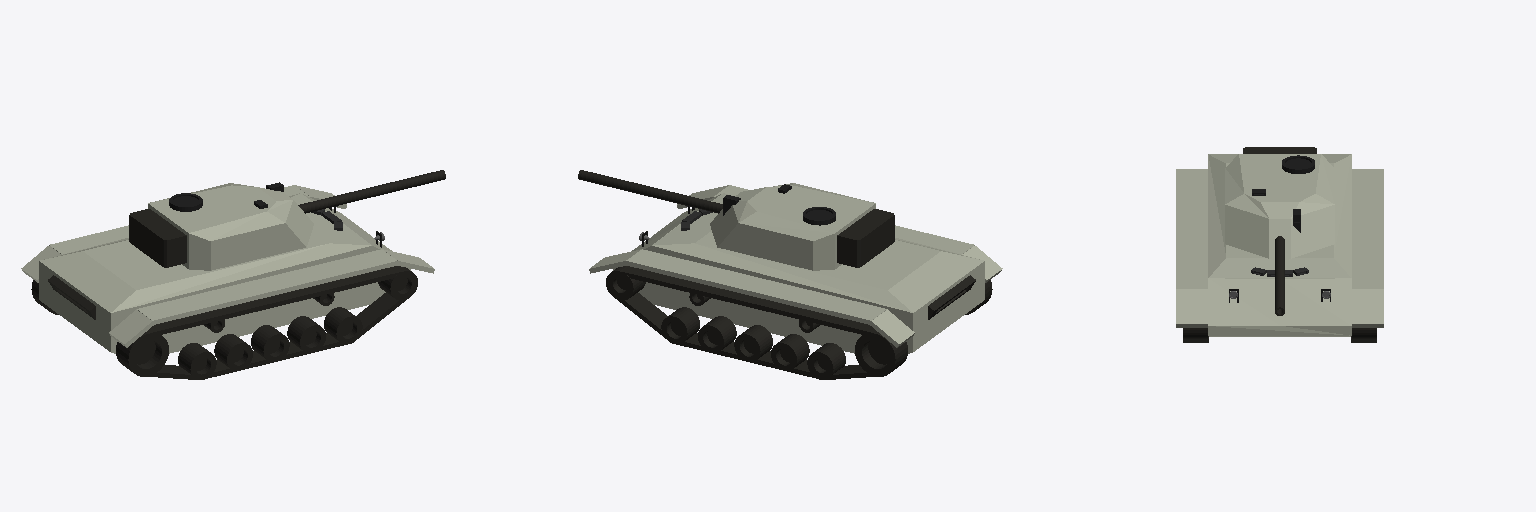
File: tank.obj
3 renders of one model, left to right at view 1: azimuth 30°, elevation 25°; view 2: azimuth 150°, elevation 25°; view 3: azimuth 270°, elevation 25°, orthographic.
Parts seen in each view (by area): view 1: Cube, Kocka.002, Kocka.010, Kocka.007, Kocka, Henger.001, Henger, Kocka.014, Henger.005, Henger.006, Henger.007, Henger.004 (+7 smaller); view 2: Cube, Kocka.002, Kocka.014, Kocka.001, Kocka, Henger.017, Henger, Kocka.010, Henger.013, Henger.012, Henger.015, Henger.014 (+6 smaller); view 3: Cube, Kocka.002, Kocka.010, Kocka.014, Kocka.012, Kocka.013, Henger.
Boxes of the visible parts, <box> form: Cube: <box>39,193,410,353</box>; Kocka.002: <box>148,183,313,270</box>; Kocka.010: <box>137,249,397,324</box>; Kocka.007: <box>148,266,402,334</box>; Kocka: <box>129,209,186,267</box>; Henger.001: <box>116,331,168,376</box>; Henger: <box>298,170,445,213</box>; Kocka.014: <box>49,185,309,254</box>; Henger.005: <box>287,316,325,353</box>; Henger.006: <box>324,307,362,344</box>; Henger.007: <box>214,334,252,370</box>; Henger.004: <box>251,325,289,361</box>; Cube: <box>613,193,984,353</box>; Kocka.002: <box>710,183,875,270</box>; Kocka.014: <box>626,249,886,324</box>; Kocka.001: <box>621,266,875,334</box>; Kocka: <box>837,209,894,267</box>; Henger.017: <box>855,331,907,376</box>; Henger: <box>578,170,722,213</box>; Kocka.010: <box>714,185,974,254</box>; Henger.013: <box>698,316,736,353</box>; Henger.012: <box>661,307,699,344</box>; Henger.015: <box>771,334,809,370</box>; Henger.014: <box>734,325,772,361</box>; Cube: <box>1208,154,1351,336</box>; Kocka.002: <box>1225,154,1334,259</box>; Kocka.010: <box>1176,169,1207,288</box>; Kocka.014: <box>1352,169,1383,288</box>; Kocka.012: <box>1176,289,1207,327</box>; Kocka.013: <box>1352,289,1383,327</box>; Henger: <box>1275,236,1284,315</box>.
Bounding box in the file's own units: 5.14 × 1.67 × 2.46.